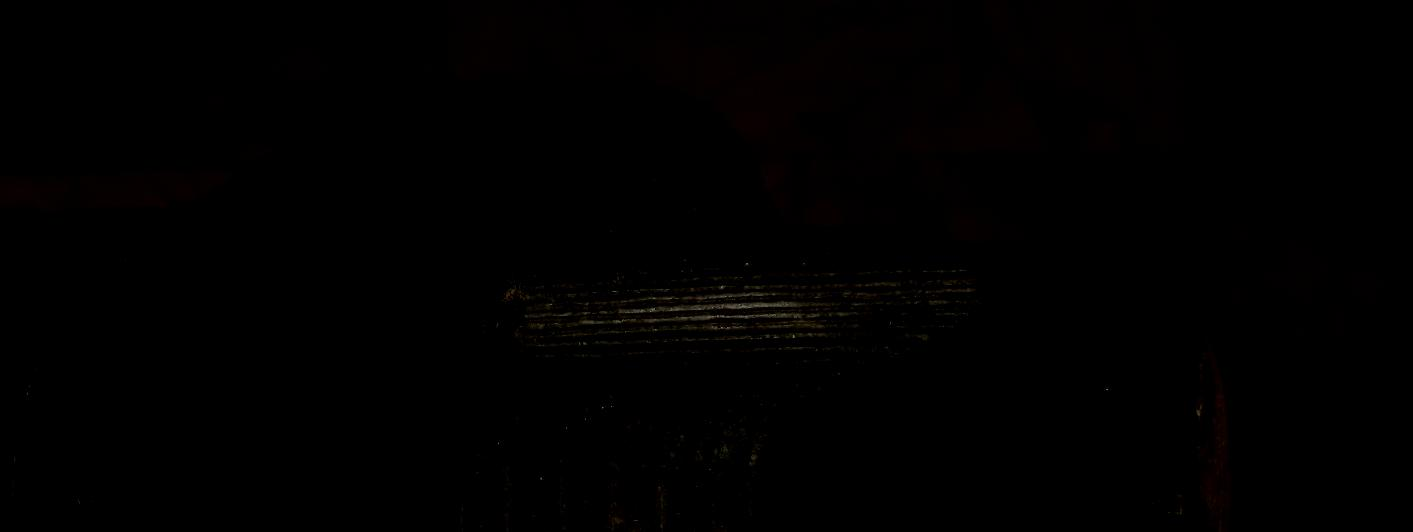Ra_Horakhty: (0, 105, 457, 532)
